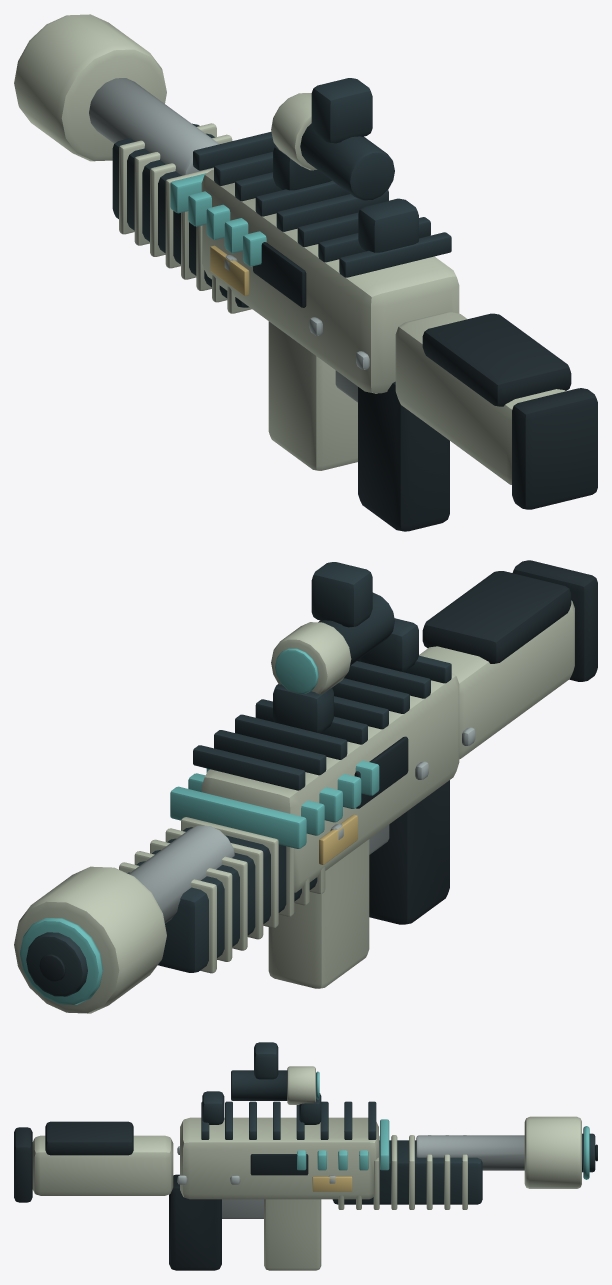
File: kf-weapon-laser.glb
3 views of the same model, one above another, from view 1: azimuth 30°, elevation 25°; view 2: azimuth 150°, elevation 25°; view 3: azimuth 270°, elevation 25° (orthographic). The views are drawn at different scales.
Visible parts, largest first — view 1: Weapon Painted receiver, Weapon Grip rubber, Weapon Gunmetal, Weapon Machined steel, Weapon Lens, Weapon Markings; view 2: Weapon Painted receiver, Weapon Gunmetal, Weapon Grip rubber, Weapon Lens, Weapon Machined steel, Weapon Markings; view 3: Weapon Painted receiver, Weapon Gunmetal, Weapon Grip rubber, Weapon Machined steel, Weapon Lens, Weapon Markings.
Boxes of the visible parts, x1=… form: Weapon Painted receiver: x1=14, y1=14, x2=565, y2=484; Weapon Grip rubber: x1=253, y1=242, x2=597, y2=531; Weapon Gunmetal: x1=112, y1=78, x2=451, y2=307; Weapon Machined steel: x1=89, y1=78, x2=369, y2=402; Weapon Lens: x1=170, y1=173, x2=266, y2=266; Weapon Markings: x1=210, y1=245, x2=249, y2=295; Weapon Painted receiver: x1=14, y1=600, x2=574, y2=1013; Weapon Gunmetal: x1=26, y1=562, x2=451, y2=996; Weapon Grip rubber: x1=39, y1=560, x2=597, y2=981; Weapon Lens: x1=20, y1=648, x2=379, y2=1004; Weapon Machined steel: x1=129, y1=727, x2=475, y2=923; Weapon Markings: x1=319, y1=814, x2=357, y2=864; Weapon Painted receiver: x1=32, y1=1066, x2=581, y2=1270; Weapon Gunmetal: x1=201, y1=1042, x2=595, y2=1204; Weapon Grip rubber: x1=14, y1=1121, x2=597, y2=1270; Weapon Machined steel: x1=177, y1=1135, x2=524, y2=1218; Weapon Lens: x1=297, y1=1071, x2=589, y2=1179; Weapon Markings: x1=312, y1=1176, x2=352, y2=1191.
Size of the model in its own units: 0.195 by 0.5465 by 1.32.
